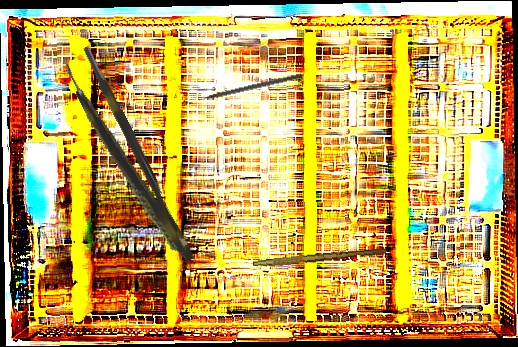Handpiece: (84, 95, 197, 294)
Hook Surgical: (189, 72, 303, 104)
Scalpel Handle: (252, 244, 387, 272)
Tissue Forceps: (59, 45, 197, 272)
